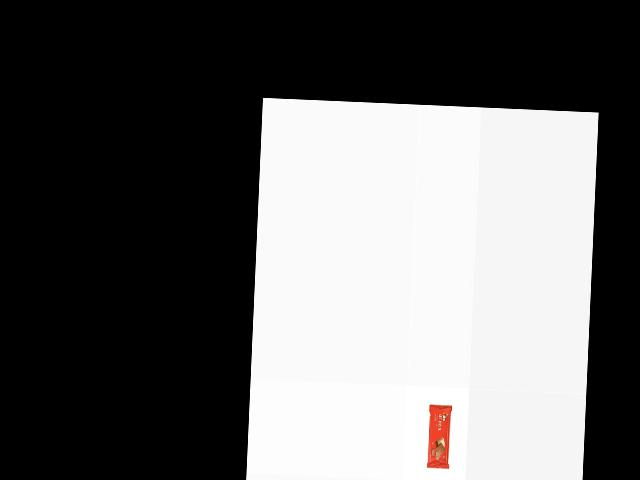chocolate: (426, 401, 451, 468)
